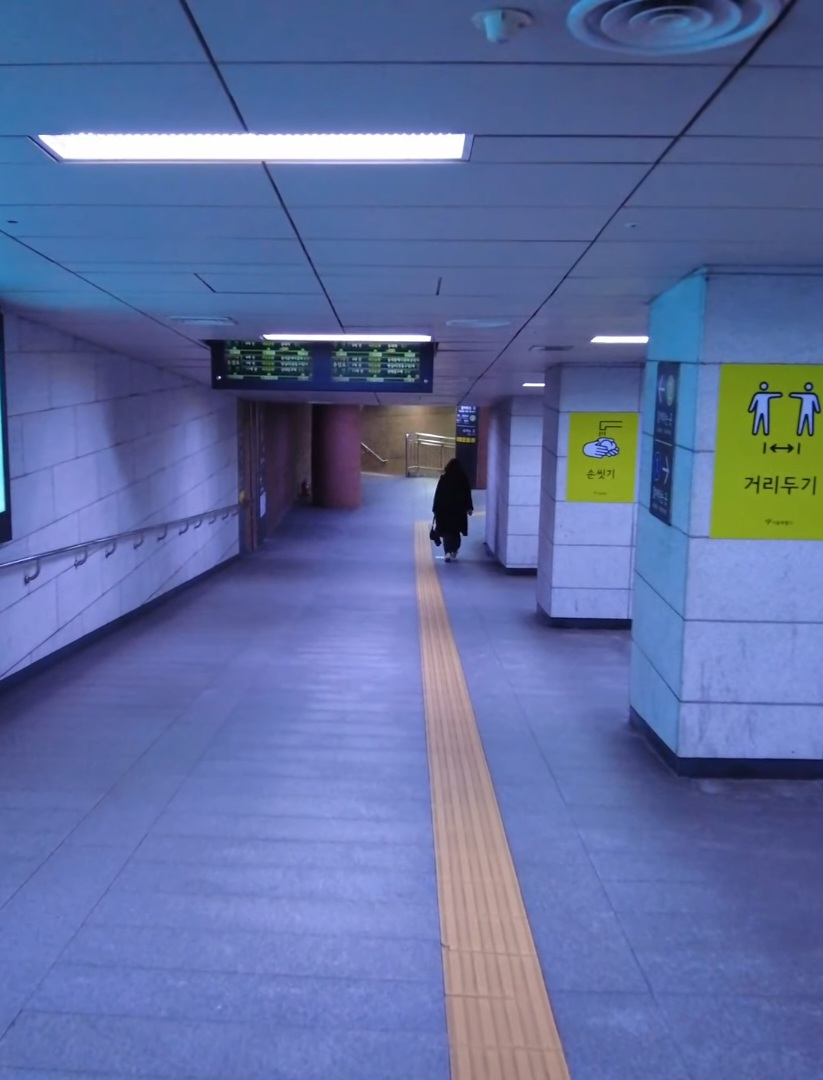guideBlock: (427, 767, 515, 841), (445, 950, 560, 1001), (430, 857, 528, 916), (430, 817, 513, 886), (447, 992, 567, 1039), (437, 882, 530, 939), (443, 916, 532, 974), (429, 708, 490, 774), (418, 673, 484, 728), (458, 1047, 559, 1080), (416, 631, 468, 675)
